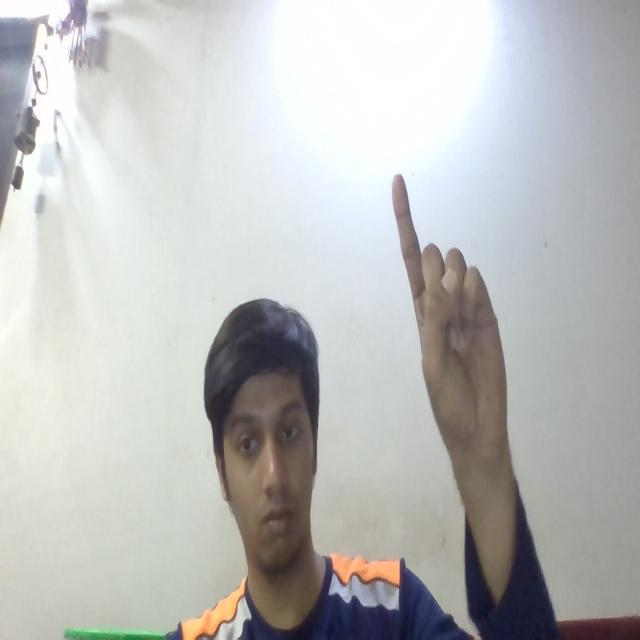Z: (381, 156, 550, 478)
